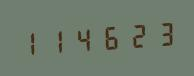four: (70, 21, 95, 56)
one: (17, 25, 42, 59), (43, 23, 68, 57)
six: (96, 20, 121, 54)
three: (148, 16, 173, 50)
two: (122, 18, 147, 52)
